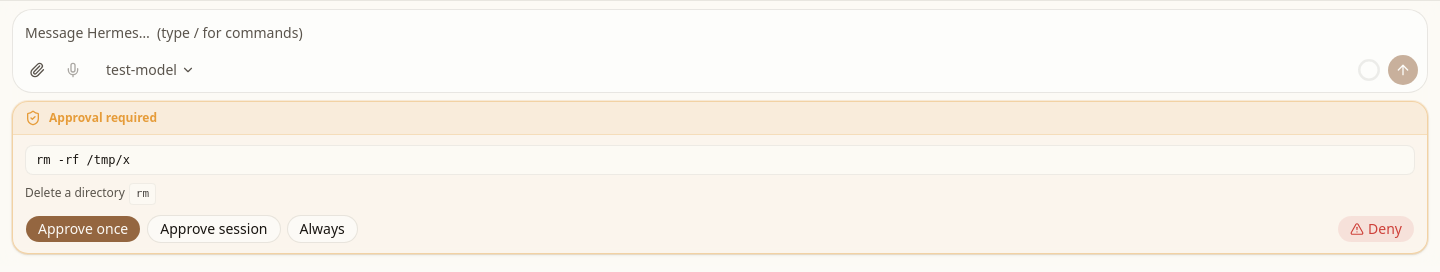
Test case: Composer — approval card › surfaces an SSE approval event and responds once
Check: the text "rm -rf /tmp/x" is shown, box [25, 145, 1415, 175]
Check: the text "Delete a directory rm" is shown, box [25, 183, 156, 205]
Click the button "Approve once" at [83, 229], box [25, 215, 141, 243]
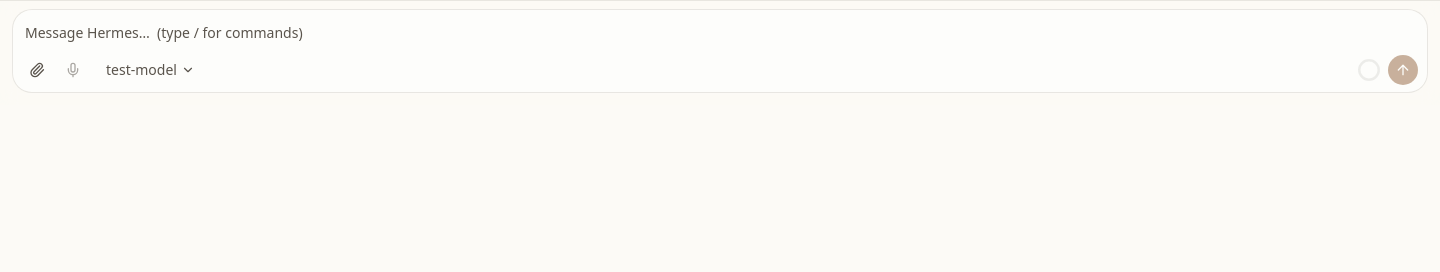
Check: the text "rm -rf /tmp/x" is gone
